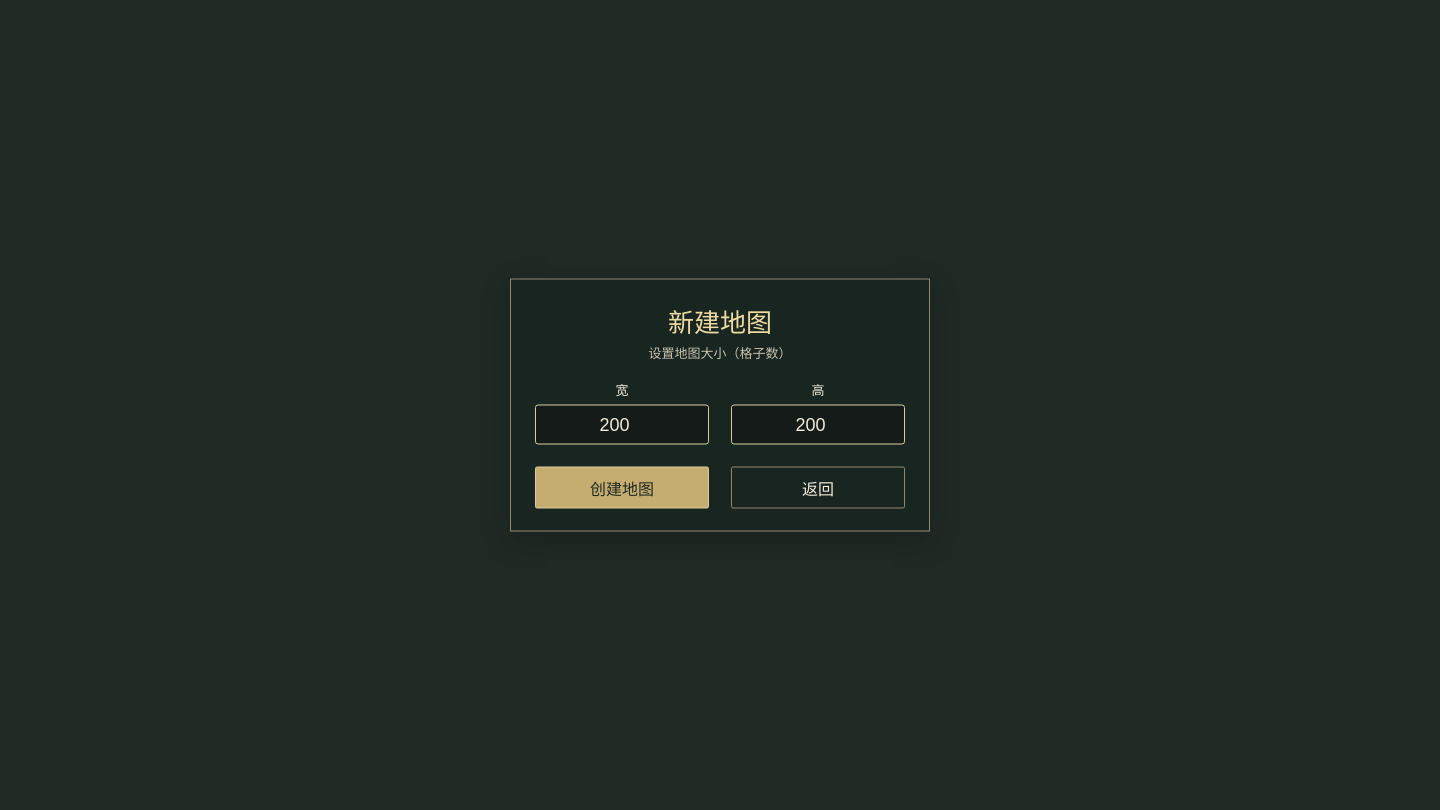
Scenario: MapEditorScreen 保存 › 地图名为空时两个保存按钮都不可用
Replace the text in the number field with test id "editor-size-width" with "4" at (622, 424), box [535,404,709,444]
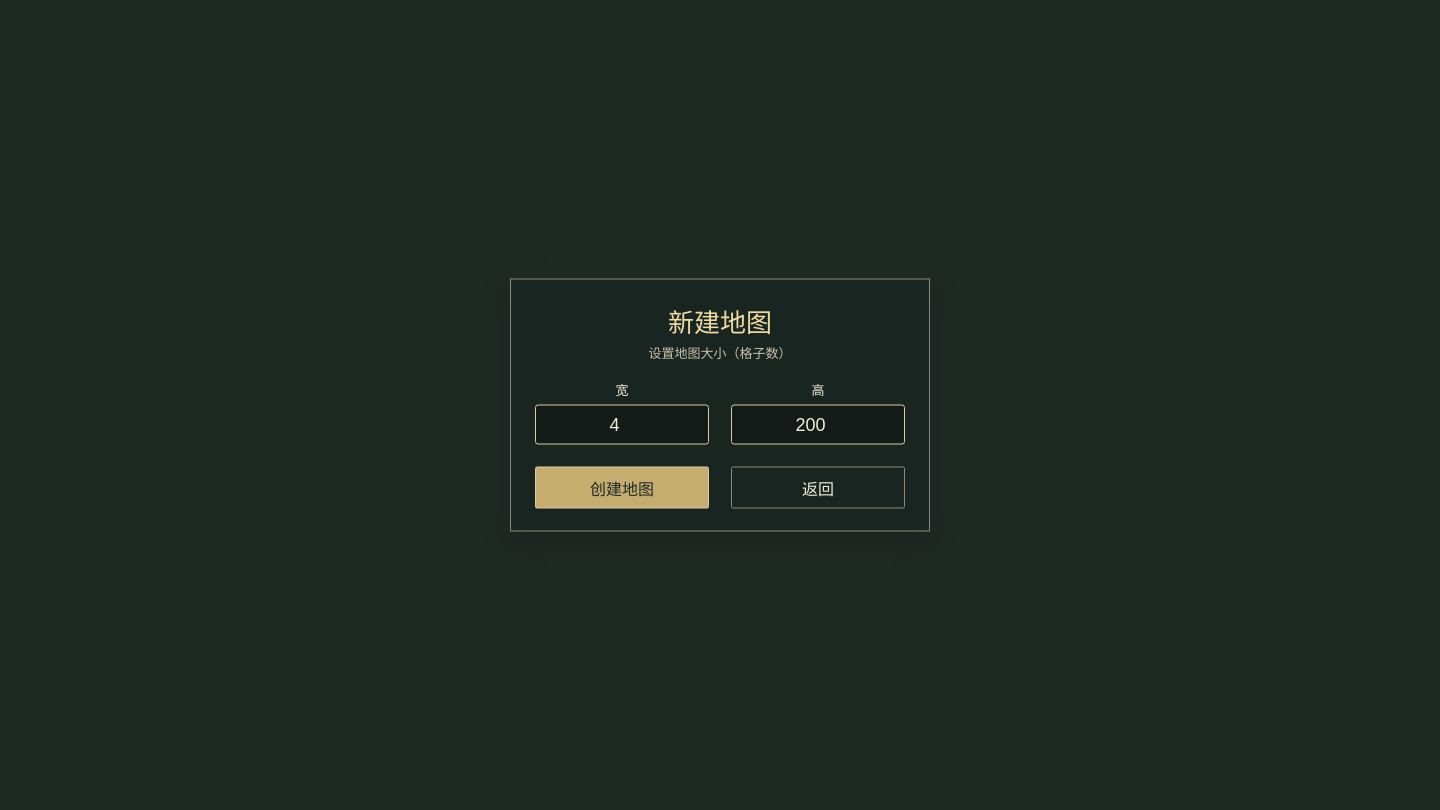
Replace the text in the number field with test id "editor-size-height" with "4" at (818, 424), box [731,404,905,444]
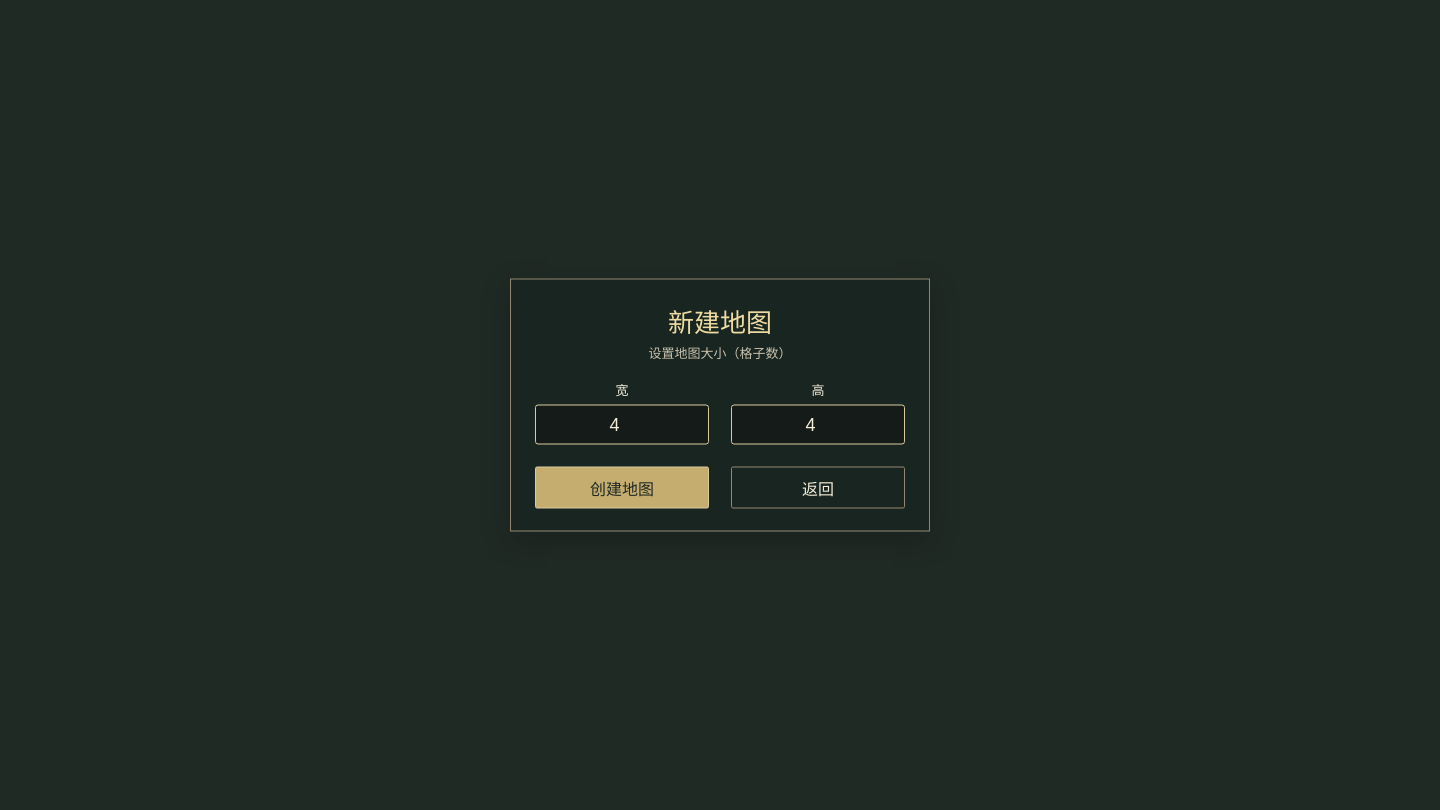
Click the button with test id "editor-size-create" at (622, 488), box [535,466,709,508]
(page scrolled)
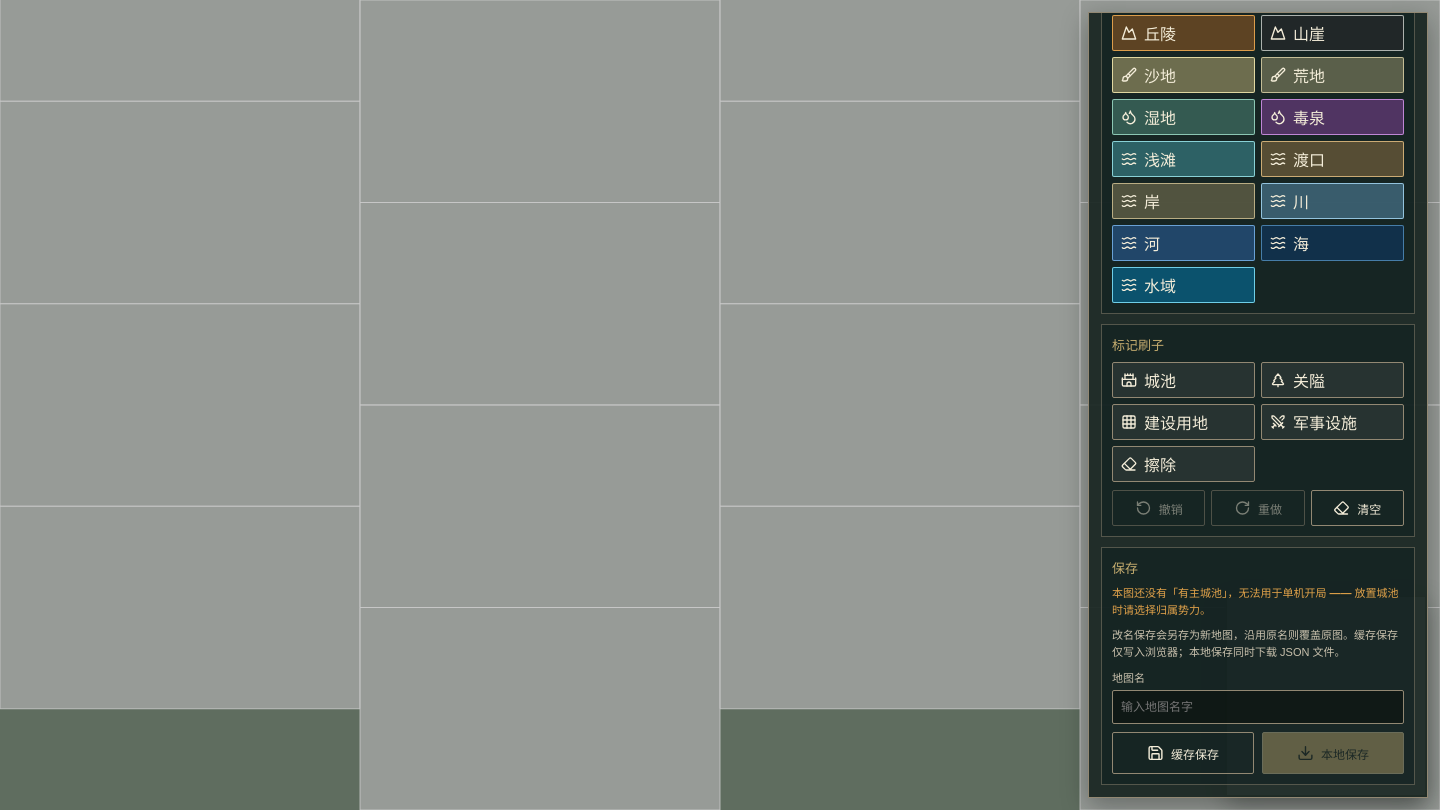
Now the button with test id "editor-save-cache" is disabled, box [1112,732,1254,774]
Now the button with test id "editor-save-local" is disabled, box [1262,732,1404,774]
